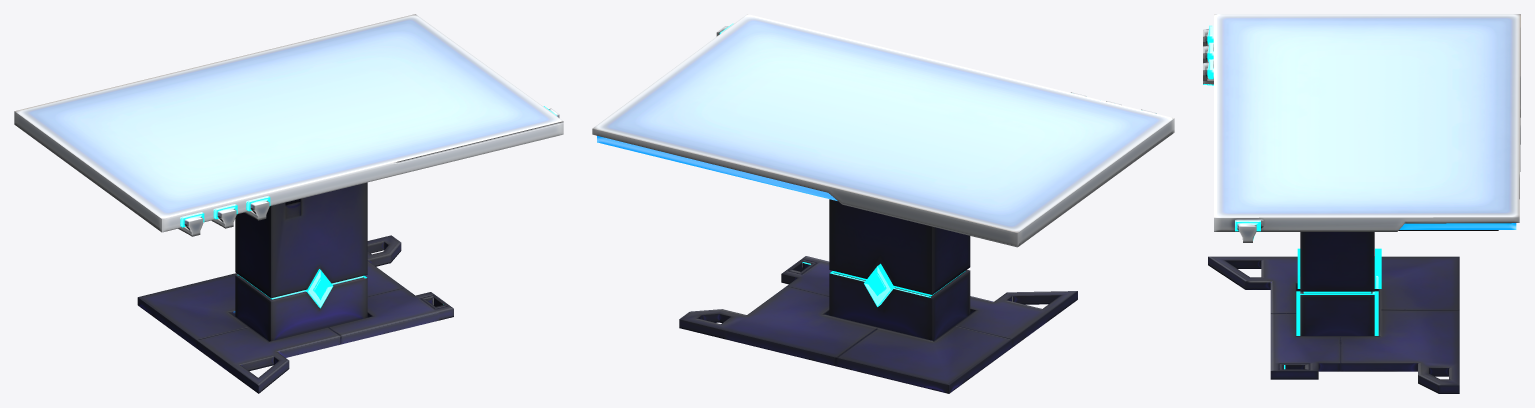
The model's file is obj_table.gltf.
3 views of the same model, side by side, from view 1: azimuth 30°, elevation 25°; view 2: azimuth 150°, elevation 25°; view 3: azimuth 270°, elevation 25° (orthographic). The views are drawn at different scales.
Visible parts, largest first — view 1: obj_table; view 2: obj_table; view 3: obj_table.
Boxes of the visible parts, x1,y1,x2,y2 form: obj_table: (14,14,563,393); obj_table: (592,14,1174,393); obj_table: (1203,14,1520,393).
Size of what is drawn, in the model's own units: 2.29 by 1.04 by 1.48.
Materials: 1 (1 with a texture image).
